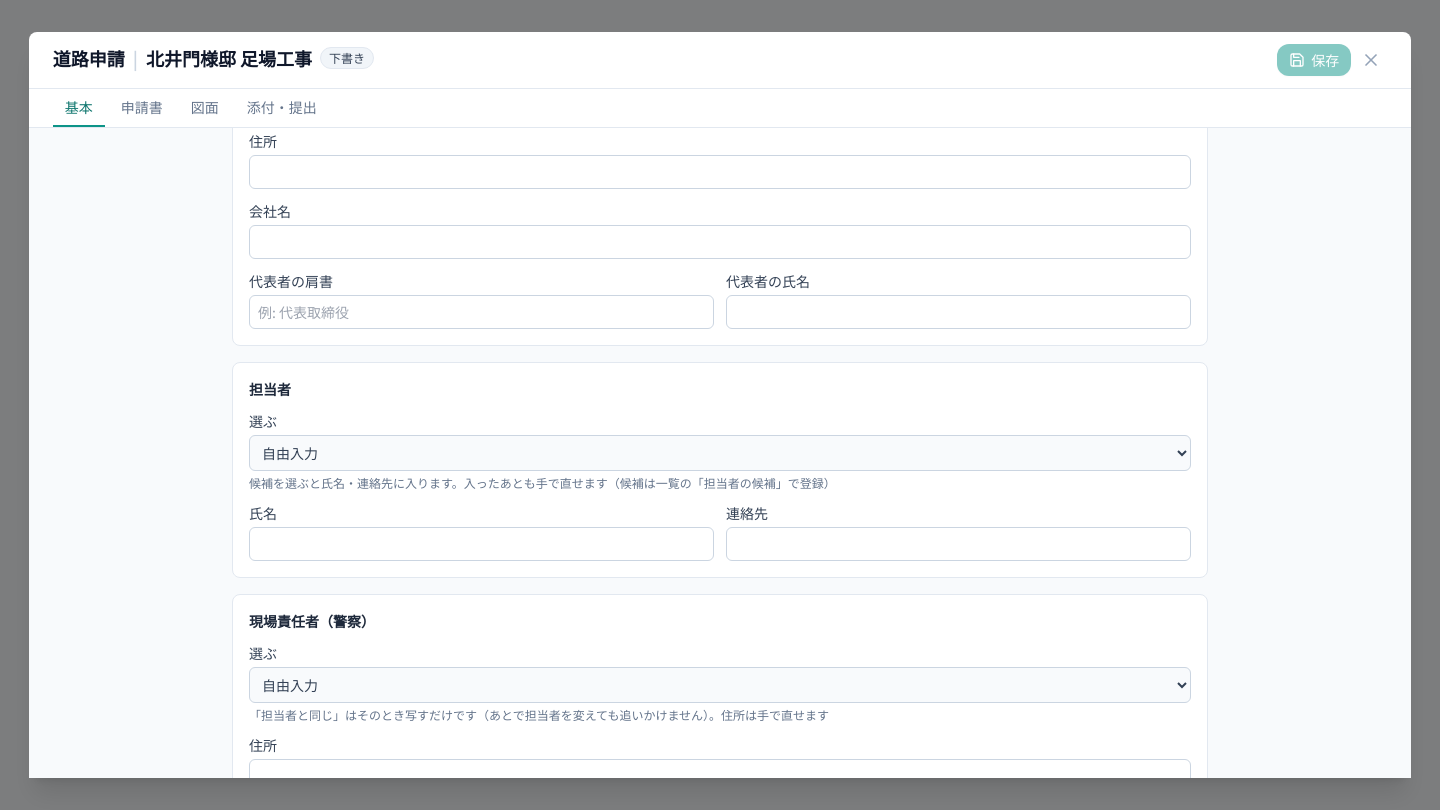
Scenario: 担当者の「選ぶ」欄 › 候補を選ぶと氏名・連絡先に入り、表示もその候補になる
(page scrolled)
Select "三生 浩人" in the dropdown labelled "選ぶ 候補を選ぶと氏名・連絡先に入ります。入ったあとも手で直せます（候補は一覧の「担当者の候補」で登録）" at x=720, y=453, box [249,435,1191,471]
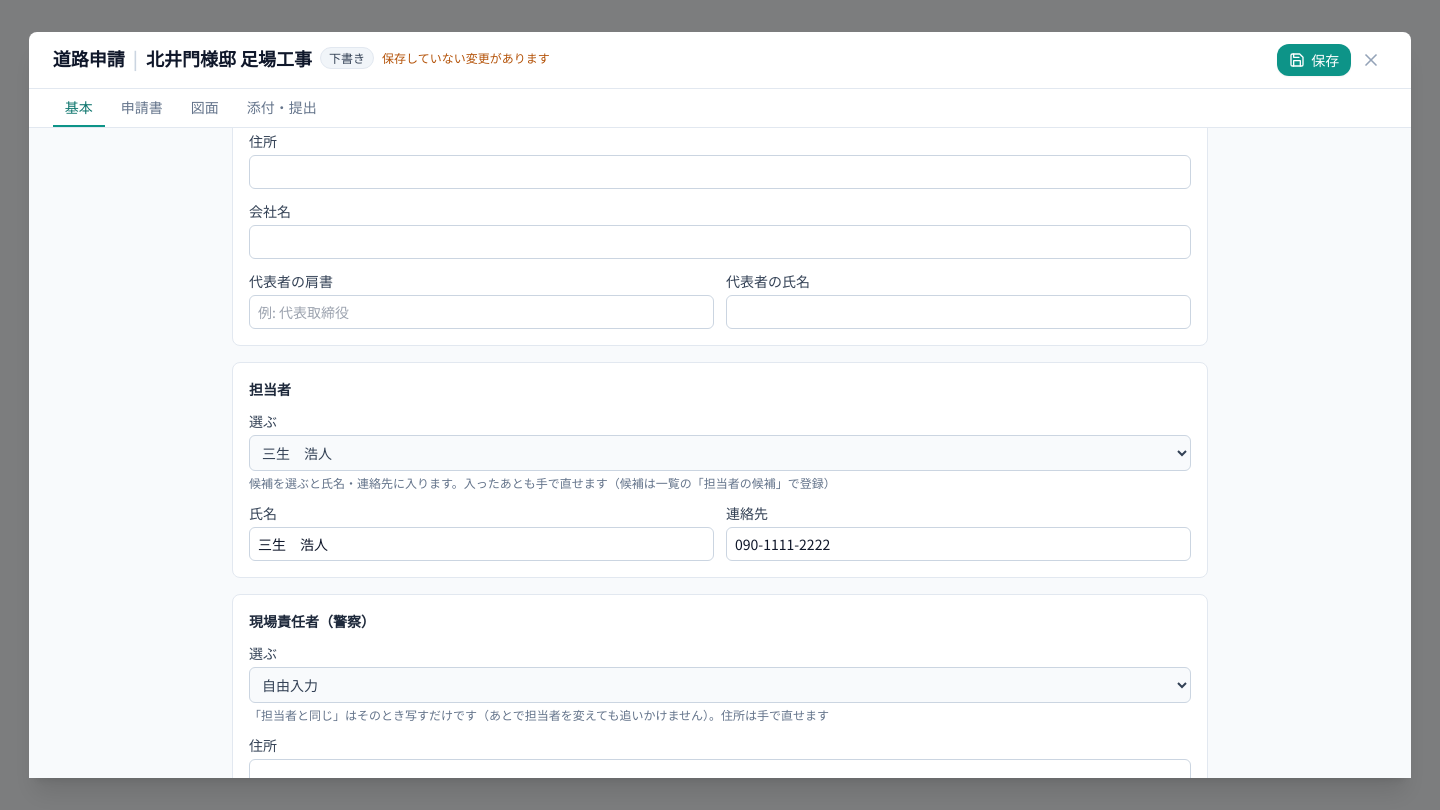
Expected: the field labelled "氏名" holds "三生　浩人", [249,527,714,561]
Expected: the field labelled "連絡先" holds "090-1111-2222", [726,527,1191,561]
